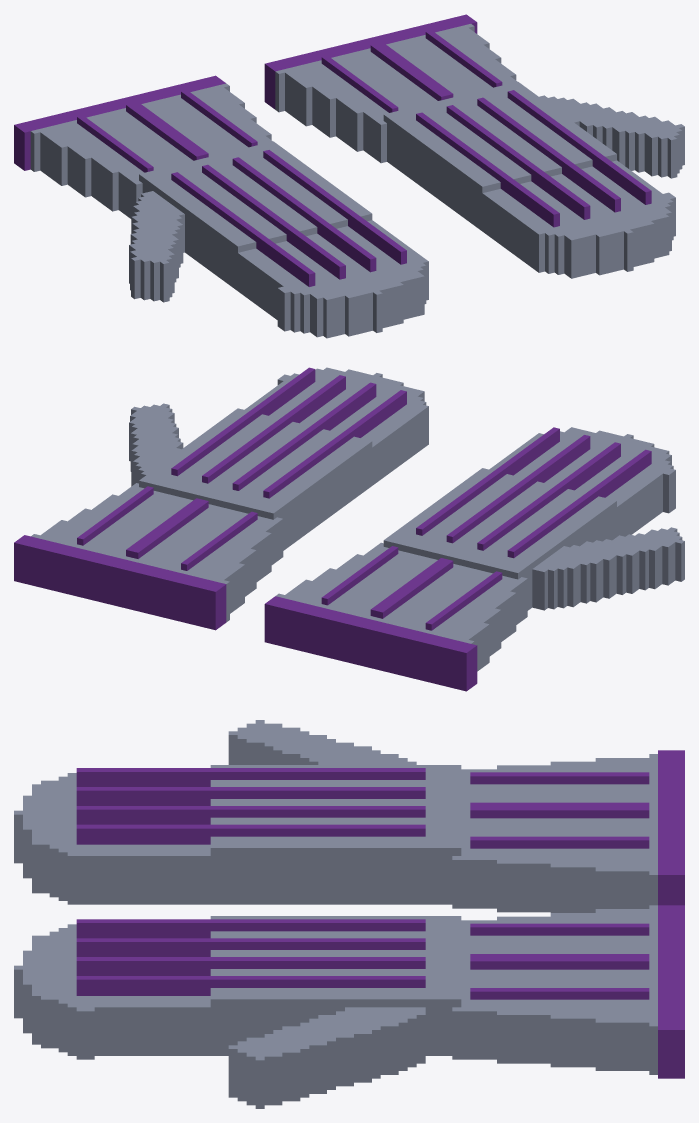
File: gambeson_gloves_parabolan.glb
3 views of the same model, one above another, from view 1: azimuth 30°, elevation 25°; view 2: azimuth 150°, elevation 25°; view 3: azimuth 270°, elevation 25° (orthographic). The views are drawn at different scales.
Parts seen in each view (by area): view 1: gambeson_gloves_parabolan:compound; view 2: gambeson_gloves_parabolan:compound; view 3: gambeson_gloves_parabolan:compound.
Boxes of the visible parts, x1,y1,x2,y2 form: gambeson_gloves_parabolan:compound: (14,14,684,338); gambeson_gloves_parabolan:compound: (14,367,684,691); gambeson_gloves_parabolan:compound: (14,720,684,1108).
Size of the model in its own units: 0.36 by 0.032 by 0.3.
